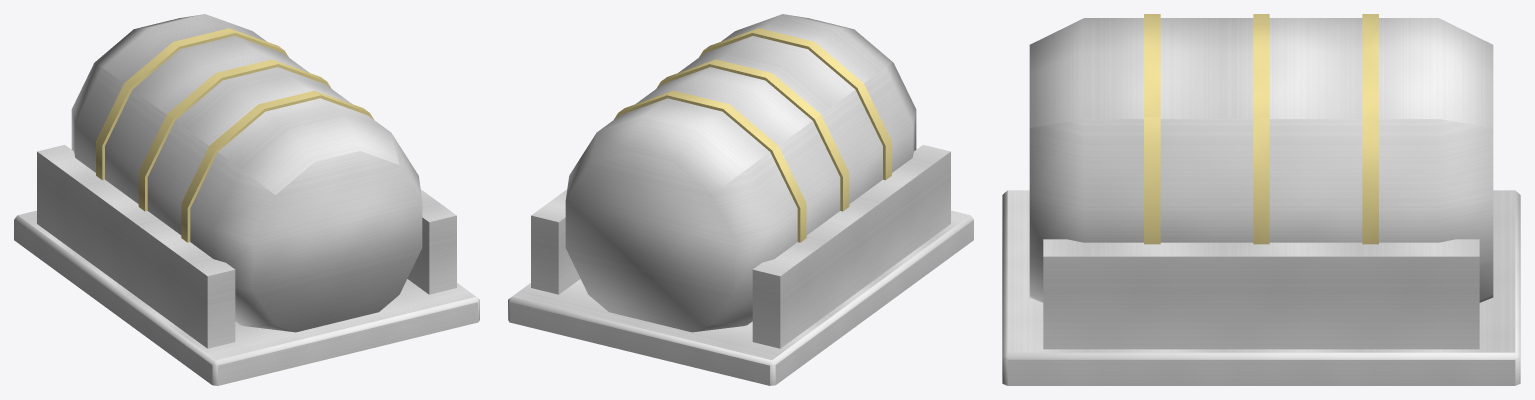
File: ship_reactor.obj
The picture shows the model from 3 angles, left to right: view 1: azimuth 30°, elevation 25°; view 2: azimuth 150°, elevation 25°; view 3: azimuth 270°, elevation 25°; orthographic projection. The views are drawn at different scales.
Parts seen in each view (by area): view 1: retained_5, retained_157, reactor_base, retained_162, retained_79, retained_105, retained_131; view 2: retained_5, retained_157, reactor_base, retained_162, retained_131, retained_105, retained_79; view 3: retained_5, retained_162, reactor_base, retained_79, retained_105, retained_131.
Part boxes in pixels (x1=…): retained_5: x1=71, y1=14, x2=422, y2=332; retained_157: x1=37, y1=145, x2=235, y2=348; reactor_base: x1=14, y1=210, x2=479, y2=385; retained_162: x1=407, y1=189, x2=456, y2=294; retained_79: x1=181, y1=90, x2=373, y2=242; retained_105: x1=138, y1=59, x2=331, y2=211; retained_131: x1=96, y1=28, x2=288, y2=180; retained_5: x1=565, y1=14, x2=916, y2=332; retained_157: x1=752, y1=145, x2=950, y2=348; reactor_base: x1=508, y1=210, x2=973, y2=385; retained_162: x1=531, y1=189, x2=580, y2=294; retained_131: x1=614, y1=90, x2=806, y2=242; retained_105: x1=656, y1=59, x2=849, y2=211; retained_79: x1=699, y1=28, x2=891, y2=180; retained_5: x1=1029, y1=18, x2=1493, y2=302; retained_162: x1=1043, y1=239, x2=1479, y2=349; reactor_base: x1=1002, y1=190, x2=1520, y2=385; retained_79: x1=1144, y1=14, x2=1160, y2=244; retained_105: x1=1253, y1=14, x2=1269, y2=244; retained_131: x1=1362, y1=14, x2=1378, y2=244.
Bounding box in the file's own units: 2.9 × 2.28 × 3.8.
